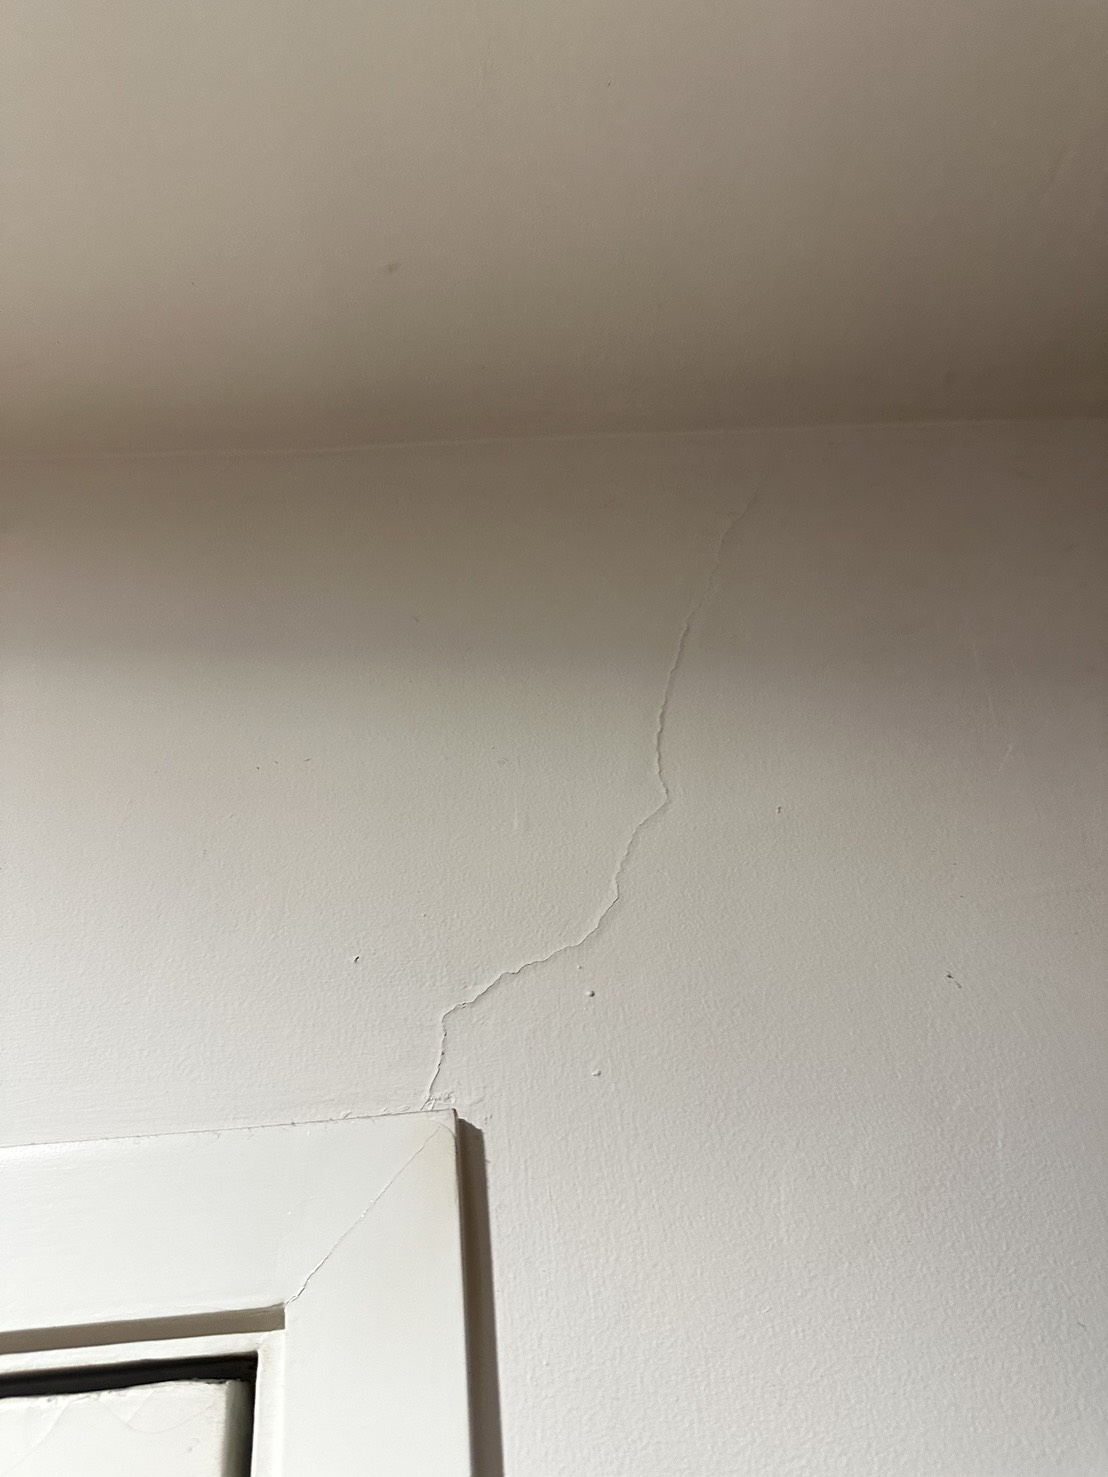Low: (407, 438, 837, 1101)
